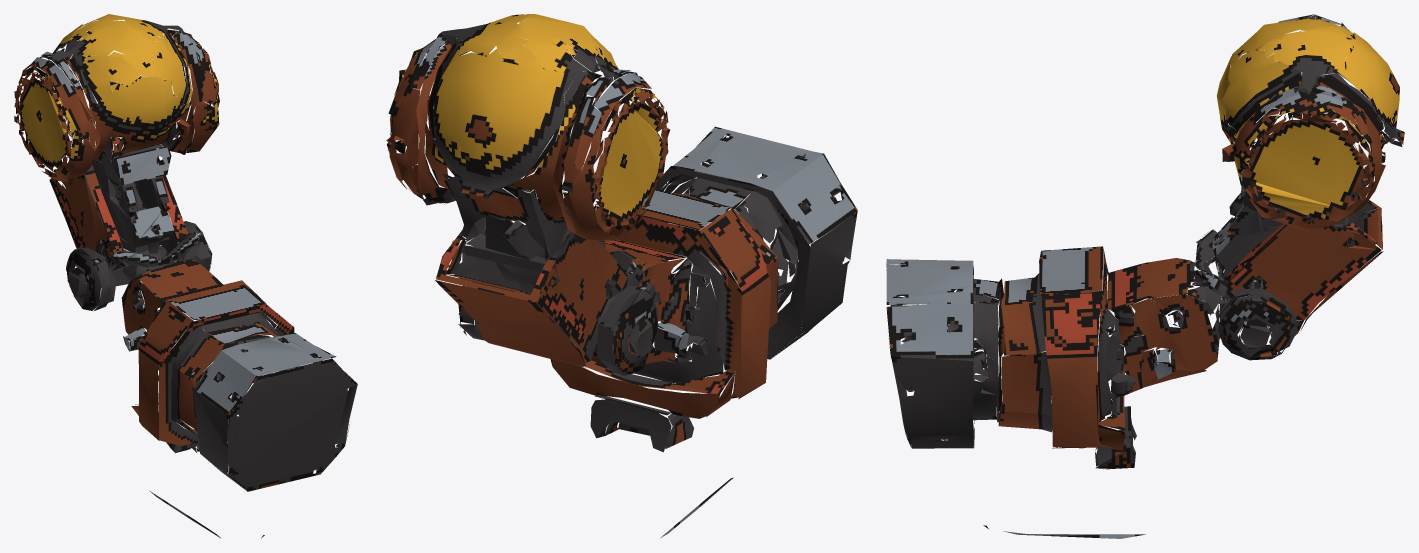
File: ar_hammer.glb
3 views of the same model, side by side, from view 1: azimuth 30°, elevation 25°; view 2: azimuth 150°, elevation 25°; view 3: azimuth 270°, elevation 25° (orthographic). The views are drawn at different scales.
Parts seen in each view (by area): view 1: ar_hammer; view 2: ar_hammer; view 3: ar_hammer.
Part boxes in pixels (x1,y1,x2,y2): ar_hammer: [14, 14, 357, 538]; ar_hammer: [386, 14, 857, 537]; ar_hammer: [886, 14, 1404, 538].
Size of the model in its own units: 0.1681 by 0.42 by 0.3982.
Materials: 1 (1 with a texture image).
